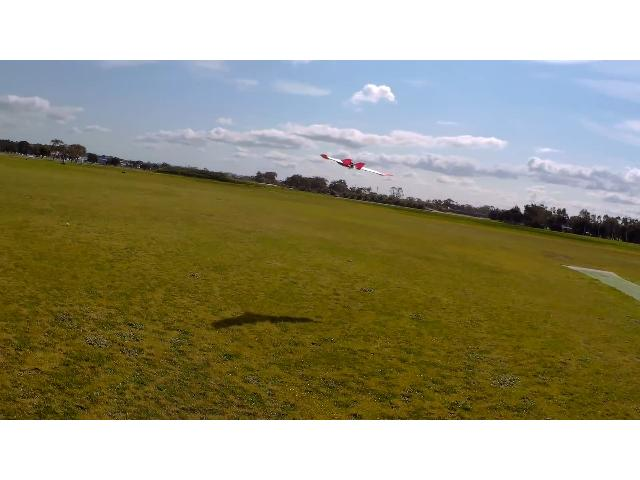Anti-Drone: (322, 155, 394, 177)
